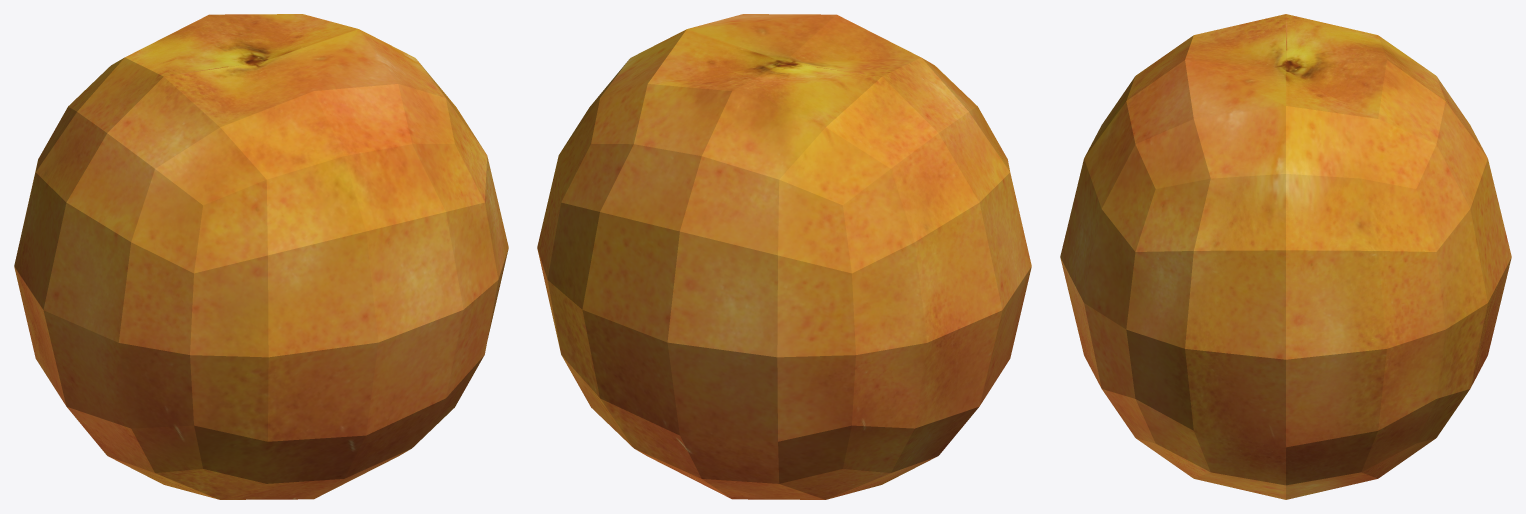
The model's file is apricot.fbx.
The picture shows the model from 3 angles, left to right: view 1: azimuth 30°, elevation 25°; view 2: azimuth 150°, elevation 25°; view 3: azimuth 270°, elevation 25°; orthographic projection. The views are drawn at different scales.
Visible parts, largest first — view 1: apricot.002, apricot.001; view 2: apricot.001, apricot.002; view 3: apricot.002, apricot.001.
Boxes of the visible parts, left/top/right/bottom form: apricot.002: left=43, top=29, right=508, bottom=499; apricot.001: left=14, top=14, right=358, bottom=405; apricot.001: left=537, top=29, right=1002, bottom=499; apricot.002: left=687, top=14, right=1031, bottom=405; apricot.002: left=1060, top=14, right=1285, bottom=499; apricot.001: left=1286, top=14, right=1511, bottom=499.
Size of the model in its own units: 0.6584 by 0.6237 by 0.6116.
